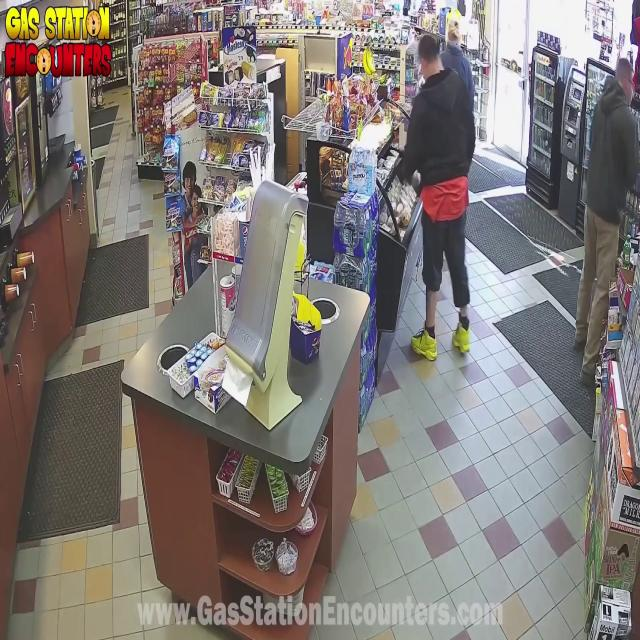Product: (404, 164, 425, 200)
normal: (562, 42, 640, 392), (431, 5, 466, 68)
shoplifting: (391, 28, 486, 387)
